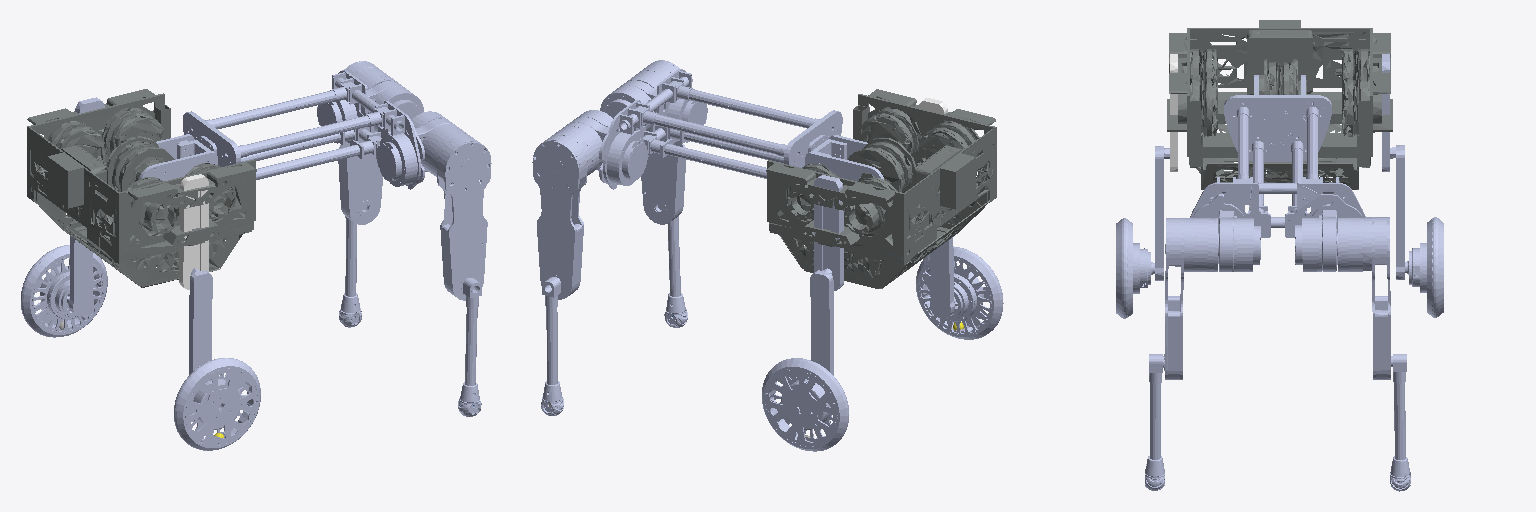
--- What the picture shows (computed from the rendered views, not written in the file) ---
3 views of the same robot in one strip: view 1: azimuth 30°, elevation 25°; view 2: azimuth 150°, elevation 25°; view 3: azimuth 270°, elevation 25° (orthographic).
Model Wheel_legged_sim with 21 links and 20 joints (8 revolute, 2 prismatic, 10 fixed), rooted at dummy_link, posed every joint at zero.
Visible links, largest first — view 1: base_link, waist_Link, Rhip_Link, Rwheel_Link, Lwheel_Link, Lhip_Link, RB_knee_Link, RB_hip_Link, Rknee_Link, LB_knee_Link, Rabad_Link, Labad_Link (+1 smaller); view 2: base_link, waist_Link, Lhip_Link, Lwheel_Link, Rwheel_Link, Rhip_Link, LB_knee_Link, LB_hip_Link, Lknee_Link, RB_knee_Link, Labad_Link, Rabad_Link (+1 smaller); view 3: base_link, waist_Link, Rabad_Link, Labad_Link, Rhip_Link, Lhip_Link, Rwheel_Link, Lwheel_Link, Lknee_Link, Rknee_Link, LB_knee_Link, RB_knee_Link (+2 smaller).
Link boxes in pixels (x1,y1,x2,y2): base_link: (27, 89, 256, 287); waist_Link: (139, 70, 420, 186); Rhip_Link: (432, 133, 491, 300); Rwheel_Link: (174, 358, 260, 450); Lwheel_Link: (21, 245, 107, 337); Lhip_Link: (338, 61, 383, 224); RB_knee_Link: (189, 268, 212, 374); RB_hip_Link: (179, 174, 208, 289); Rknee_Link: (458, 278, 481, 416); LB_knee_Link: (69, 236, 93, 315); Rabad_Link: (408, 111, 466, 189); Labad_Link: (350, 71, 423, 145); base_link: (766, 89, 996, 288); waist_Link: (603, 69, 883, 185); Lhip_Link: (532, 131, 591, 299); Lwheel_Link: (762, 358, 848, 451); Rwheel_Link: (916, 246, 1003, 339); Rhip_Link: (640, 60, 685, 224); LB_knee_Link: (810, 268, 833, 375); LB_hip_Link: (814, 175, 843, 290); Lknee_Link: (541, 277, 563, 415); RB_knee_Link: (930, 237, 954, 318); Labad_Link: (556, 110, 616, 189); Rabad_Link: (600, 71, 674, 144); base_link: (1167, 20, 1392, 189); waist_Link: (1190, 75, 1365, 237); Rabad_Link: (1193, 194, 1260, 271); Labad_Link: (1295, 195, 1362, 271); Rhip_Link: (1164, 218, 1193, 379); Lhip_Link: (1362, 217, 1390, 379); Rwheel_Link: (1116, 218, 1154, 318); Lwheel_Link: (1405, 217, 1443, 317); Lknee_Link: (1390, 354, 1410, 491); Rknee_Link: (1145, 354, 1164, 490); LB_knee_Link: (1390, 145, 1404, 279); RB_knee_Link: (1155, 146, 1169, 280).
Size in the robot's own frame: 0.7829 by 0.581 by 0.5883 metres.
14 mesh visuals loaded from 14 distinct referenced files (14 binary STL).

robot.urdf — Wheel_legged_sim:
<?xml version="1.0" encoding="utf-8"?>
<!-- This URDF was automatically created by SolidWorks to URDF Exporter! Originally created by Stephen Brawner ([email redacted]) 
     Commit Version: 1.6.0-4-g7f85cfe  Build Version: 1.6.7995.38578
     For more information, please see http://wiki.ros.org/sw_urdf_exporter -->
<robot name="Wheel_legged_sim">
  <gazebo>
    <plugin filename="libwheel_legged_hw_sim.so" name="gazebo_ros_control">
      <robotNamespace>/</robotNamespace>
      <robotParam>wheel_legged_description</robotParam>
      <robotSimType>ocs2/wheel_legged/LeggedHWSim</robotSimType>
    </plugin>
  </gazebo>
  <gazebo>
    <plugin filename="libgazebo_ros_p3d.so" name="p3d_base_controller">
      <alwaysOn>true</alwaysOn>
      <updateRate>1000.0</updateRate>
      <bodyName>base_link</bodyName>
      <topicName>ground_truth/state</topicName>
      <gaussianNoise>0</gaussianNoise>
      <frameName>world</frameName>
      <xyzOffsets>0 0 0</xyzOffsets>
      <rpyOffsets>0 0 0</rpyOffsets>
    </plugin>
  </gazebo>
  <link name="dummy_link">
    </link>
  <joint name="dummy_to_base_link" type="fixed">
    <parent link="dummy_link"/>
    <child link="base_link"/>
    <origin rpy="0 0 0" xyz="0 0 0"/>
  </joint>
  <link
    name="base_link">
    <visual>
      <origin
        xyz="0 0 0"
        rpy="0 0 0" />
      <geometry>
        <mesh
          filename="package://wheel_legged_description/meshes_controller/base_link.STL" />
      </geometry>
      <material
        name="">
        <color
          rgba="0.52941 0.54902 0.54902 1" />
      </material>
    </visual>
    <collision>
      <origin
        xyz="0 0 0"
        rpy="0 0 0" />
      <geometry>
        <box size="0.28 0.33 0.213" />
      </geometry>
    </collision>
  </link>
  <joint name="base_to_base_inertia" type="fixed">
        <parent link="base_link"/>
        <child link="base_inertia"/>
        <origin rpy="0 0 0" xyz="0 0 0"/>
  </joint>
  <link name="base_inertia">
      <inertial>
          <origin
            xyz="-0.034923 0.0027299 0.021738"
            rpy="0 0 0" />
          <mass
            value="16.8740" />
          <inertia
            ixx="0.29866736"
            ixy="0.00356184"
            ixz="-0.02224445"
            iyy="0.48858061"
            iyz="0.00137258"
            izz="0.65670964" />
      </inertial>
  </link>
    <!-- Imu is fixed to the base link -->
  <joint name="base_imu_joint" type="fixed">
    <origin rpy="0. 0. 0." xyz="0. 0. 0."/>
    <parent link="base_link"/>
    <child link="base_imu"/>
  </joint>
  <!-- Imu link -->
  <link name="base_imu">
    <inertial>
      <mass value="0.01"/>
      <origin rpy="0 0 0" xyz="0 0 0"/>
      <inertia ixx="0.000001" ixy="0" ixz="0" iyy="0.000001" iyz="0" izz="0.000001"/>
    </inertial>
    <visual>
      <origin rpy="0 0 0" xyz="0 0 0"/>
      <geometry>
        <box size="0.015 0.015 0.004"/>
      </geometry>
    </visual>
    <material name="orange">
      <color rgba="255 108 10 255"/>
    </material>
  </link>
  <gazebo reference="base_imu">
    <material>Gazebo/Orange</material>
  </gazebo>
  <gazebo reference="base_imu_joint">
    <disableFixedJointLumping>true</disableFixedJointLumping>
  </gazebo>
  <link
    name="waist_Link">
    <inertial>
      <origin
        xyz="0.31834 -0.0058844 -0.014821"
        rpy="0 0 0" />
      <mass
        value="0.000001" />
      <inertia
        ixx="0.000001"
        ixy="0.000001"
        ixz="0.000001"
        iyy="0.000001"
        iyz="0.000001"
        izz="0.000001" />
    </inertial>
    <visual>
      <origin
        xyz="0 0 0"
        rpy="0 0 0" />
      <geometry>
        <mesh
          filename="package://wheel_legged_description/meshes_controller/waist_Link.STL" />
      </geometry>
      <material
        name="">
        <color
          rgba="0.79216 0.81961 0.93333 1" />
      </material>
    </visual>
    <!-- <collision>
      <origin
        xyz="0.28 0 0"
        rpy="0 0 0" />
      <geometry>
        <box size="0.56 0.24 0.1" />
      </geometry>
    </collision> -->
  </link>
  <joint
    name="Joint_waist"
    type="fixed">
    <origin
      xyz="0.00010702 0.0053589 0.070915"
      rpy="0 0 0" />
    <parent
      link="base_link" />
    <child
      link="waist_Link" />
  </joint>
  <link
    name="Labad_Link">
    <inertial>
      <origin
        xyz="-0.0059569 -0.010794 -0.00017197"
        rpy="0 0 0" />
      <mass
        value="1.27" />
      <inertia
        ixx="0.00270"
        ixy="0.00002"
        ixz="0.00000"
        iyy="0.00162"
        iyz="-0.00001"
        izz="0.00284" />
    </inertial>
    <visual>
      <origin
        xyz="0 0 0"
        rpy="0 0 0" />
      <geometry>
        <mesh
          filename="package://wheel_legged_description/meshes_controller/Labad_Link.STL" />
      </geometry>
      <material
        name="">
        <color
          rgba="0.79216 0.81961 0.93333 1" />
      </material>
    </visual>
    <collision>
      <origin
        xyz="0 0 0"
        rpy="1.57 0 0" />
      <geometry>
        <cylinder length="0.13" radius="0.048" />
      </geometry>
    </collision>
  </link>
  <joint
    name="Joint_Labad"
    type="revolute">
    <origin
      xyz="0.56007 0.10043 -0.037739"
      rpy="0 0 0" />
    <parent
      link="waist_Link" />
    <child
      link="Labad_Link" />
    <axis
      xyz="1 0 0" />
    <limit
      lower="-0.424"
      upper="1.04"
      effort="24.206"
      velocity="100" />
  </joint>
  <link
    name="Lhip_Link">
    <inertial>
      <origin
        xyz="-0.00072323 -0.0046042 -0.086506"
        rpy="0 0 0" />
      <mass
        value="1.02" />
      <inertia
        ixx="0.00953"
        ixy="0.00000"
        ixz="-0.00005"
        iyy="0.00994"
        iyz="0.00039"
        izz="0.00079" />
    </inertial>
    <visual>
      <origin
        xyz="0 0 0"
        rpy="0 0 0" />
      <geometry>
        <mesh
          filename="package://wheel_legged_description/meshes_controller/Lhip_Link.STL" />
      </geometry>
      <material
        name="">
        <color
          rgba="0.79216 0.81961 0.93333 1" />
      </material>
    </visual>
    <collision>
      <origin
        xyz="0 0 -0.115"
        rpy="0 0 0" />
      <geometry>
        <cylinder length="0.23" radius="0.05" />
      </geometry>
    </collision>
  </link>
  <joint
    name="Joint_Lhip"
    type="revolute">
    <origin
      xyz="-0.00017444 0.077692 0.00019391"
      rpy="0 0 0" />
    <parent
      link="Labad_Link" />
    <child
      link="Lhip_Link" />
    <axis
      xyz="0 1 0" />
    <limit
      lower="-0.503"
      upper="1.41"
      effort="22.76"
      velocity="100" />
  </joint>
  <link
    name="Lknee_Link">
    <inertial>
      <origin
        xyz="-0.0017065 -0.00067242 -0.14609"
        rpy="0 0 0" />
      <mass
        value="0.18" />
      <inertia
        ixx="0.00159"
        ixy="0.00000"
        ixz="-0.00002"
        iyy="0.00159"
        iyz="0.00005"
        izz="0.00003" />
    </inertial>
    <visual>
      <origin
        xyz="0 0 0"
        rpy="0 0 0" />
      <geometry>
        <mesh
          filename="package://wheel_legged_description/meshes_controller/Lknee_Link.STL" />
      </geometry>
      <material
        name="">
        <color
          rgba="0.79216 0.81961 0.93333 1" />
      </material>
    </visual>
    <collision>
      <origin
        xyz="0 0 -0.125"
        rpy="0 0 0" />
      <geometry>
        <cylinder length="0.25" radius="0.04" />
      </geometry>
    </collision>
  </link>
  <joint
    name="Joint_Lknee"
    type="revolute">
    <origin
      xyz="-0.0016586 0.031407 -0.23005"
      rpy="0 0 0" />
    <parent
      link="Lhip_Link" />
    <child
      link="Lknee_Link" />
    <axis
      xyz="0 1 0" />
    <limit
      lower="-3.14"
      upper="0"
      effort="28"
      velocity="100" />
  </joint>
  
  <joint dont_collapse="true" name="LF_foot_fixed" type="fixed">
    <origin rpy="0 0 0" xyz="-0.0025 0.002 -0.232"/>
    <parent link="Lknee_Link"/>
    <child link="LF_FOOT"/>
  </joint>
  <link name="LF_FOOT">
    <visual>
      <origin rpy="0 0 0" xyz="0 0 0"/>
      <geometry>
        <sphere radius="0.01"/>
      </geometry>
      <material name=""/>
    </visual>
    <collision>
      <origin rpy="0 0 0" xyz="0 0 0"/>
      <geometry>
        <sphere radius="0.01"/>
      </geometry>
    </collision>
    <inertial>
      <mass value="0.06"/>
      <inertia ixx="9.600000000000001e-06" ixy="0.0" ixz="0.0" iyy="9.600000000000001e-06" iyz="0.0" izz="9.600000000000001e-06"/>
    </inertial>
  </link>
  <gazebo reference="LF_foot_fixed">
    <disableFixedJointLumping>true</disableFixedJointLumping>
  </gazebo>
  <gazebo reference="Labad_Link">
    <mu1>0.2</mu1>
    <mu2>0.2</mu2>
    <material>Gazebo/DarkGrey</material>
  </gazebo>
  <gazebo reference="Lhip_Link">
    <mu1>0.2</mu1>
    <mu2>0.2</mu2>
    <self_collide>0</self_collide>
    <material>Gazebo/DarkGrey</material>
    <kp value="1000000.0"/>
    <kd value="100.0"/>
  </gazebo>
  <gazebo reference="Lknee_Link">
    <mu1>0.6</mu1>
    <mu2>0.6</mu2>
    <self_collide>1</self_collide>
  </gazebo>
  <gazebo reference="LF_FOOT">
    <mu1>0.6</mu1>
    <mu2>0.6</mu2>
    <self_collide>1</self_collide>
    <material>Gazebo/DarkGrey</material>
    <kp value="1000000.0"/>
    <kd value="100.0"/>
  </gazebo>
  
  <transmission name="LF_HAA_tran">
    <type>transmission_interface/SimpleTransmission</type>
    <joint name="Joint_Labad">
      <hardwareInterface>hardware_interface/EffortJointInterface</hardwareInterface>
    </joint>
    <actuator name="LF_HAA_motor">
      <hardwareInterface>hardware_interface/EffortJointInterface</hardwareInterface>
      <mechanicalReduction>1</mechanicalReduction>
    </actuator>
  </transmission>
  <transmission name="LF_HFE_tran">
    <type>transmission_interface/SimpleTransmission</type>
    <joint name="Joint_Lhip">
      <hardwareInterface>hardware_interface/EffortJointInterface</hardwareInterface>
    </joint>
    <actuator name="LF_HFE_motor">
      <hardwareInterface>hardware_interface/EffortJointInterface</hardwareInterface>
      <mechanicalReduction>1</mechanicalReduction>
    </actuator>
  </transmission>
  <transmission name="LF_KFE_tran">
    <type>transmission_interface/SimpleTransmission</type>
    <joint name="Joint_Lknee">
      <hardwareInterface>hardware_interface/EffortJointInterface</hardwareInterface>
    </joint>
    <actuator name="LF_KFE_motor">
      <hardwareInterface>hardware_interface/EffortJointInterface</hardwareInterface>
      <mechanicalReduction>1</mechanicalReduction>
    </actuator>
  </transmission>
  
  <link
    name="Rabad_Link">
    <inertial>
      <origin
        xyz="-0.0060593 0.010773 0.00059437"
        rpy="0 0 0" />
      <mass
        value="1.27" />
      <inertia
        ixx="0.00270"
        ixy="-0.00002"
        ixz="0.00000"
        iyy="0.00162"
        iyz="0.00001"
        izz="0.00284" />
    </inertial>
    <visual>
      <origin
        xyz="0 0 0"
        rpy="0 0 0" />
      <geometry>
        <mesh
          filename="package://wheel_legged_description/meshes_controller/Rabad_Link.STL" />
      </geometry>
      <material
        name="">
        <color
          rgba="0.79216 0.81961 0.93333 1" />
      </material>
    </visual>
    <collision>
      <origin
        xyz="0 0 0"
        rpy="1.57 0 0" />
      <geometry>
        <cylinder length="0.13" radius="0.048" />
      </geometry>
    </collision>
  </link>
  <joint
    name="Joint_Rabad"
    type="revolute">
    <origin
      xyz="0.55997 -0.11311 -0.039239"
      rpy="0 0 0" />
    <parent
      link="waist_Link" />
    <child
      link="Rabad_Link" />
    <axis
      xyz="1 0 0" />
    <limit
      lower="-1.04"
      upper="0.424"
      effort="24.206"
      velocity="100" />
  </joint>
  <link
    name="Rhip_Link">
    <inertial>
      <origin
        xyz="-0.00032807 0.0034224 -0.086549"
        rpy="0 0 0" />
      <mass
        value="1.02" />
      <inertia
        ixx="0.00953"
        ixy="0.00000"
        ixz="-0.00005"
        iyy="0.00994"
        iyz="-0.00041"
        izz="0.00079" />
    </inertial>
    <visual>
      <origin
        xyz="0 0 0"
        rpy="0 0 0" />
      <geometry>
        <mesh
          filename="package://wheel_legged_description/meshes_controller/Rhip_Link.STL" />
      </geometry>
      <material
        name="">
        <color
          rgba="0.79216 0.81961 0.93333 1" />
      </material>
    </visual>
    <collision>
      <origin
        xyz="0 0 -0.115"
        rpy="0 0 0" />
      <geometry>
        <cylinder length="0.23" radius="0.05" />
      </geometry>
    </collision>
  </link>
  <joint
    name="Joint_Rhip"
    type="revolute">
    <origin
      xyz="-7.1411E-05 -0.076714 0.00089968"
      rpy="0 0 0" />
    <parent
      link="Rabad_Link" />
    <child
      link="Rhip_Link" />
    <axis
      xyz="0 1 0" />
    <limit
      lower="-0.503"
      upper="1.41"
      effort="22.76"
      velocity="100" />
  </joint>
  <link
    name="Rknee_Link">
    <inertial>
      <origin
        xyz="-0.0045928 -0.00013516 -0.14629"
        rpy="0 0 0" />
      <mass
        value="0.18" />
      <inertia
        ixx="0.00159"
        ixy="0.00000"
        ixz="-0.00005"
        iyy="0.00159"
        iyz="-0.00005"
        izz="0.00003" />
    </inertial>
    <visual>
      <origin
        xyz="0 0 0"
        rpy="0 0 0" />
      <geometry>
        <mesh
          filename="package://wheel_legged_description/meshes_controller/Rknee_Link.STL" />
      </geometry>
      <material
        name="">
        <color
          rgba="0.79216 0.81961 0.93333 1" />
      </material>
    </visual>
    <collision>
      <origin
        xyz="0 0 -0.125"
        rpy="0 0 0" />
      <geometry>
        <cylinder length="0.25" radius="0.04" />
      </geometry>
    </collision>
  </link>
  <joint
    name="Joint_Rknee"
    type="revolute">
    <origin
      xyz="-0.0011405 -0.032389 -0.22976"
      rpy="0 0 0" />
    <parent
      link="Rhip_Link" />
    <child
      link="Rknee_Link" />
    <axis
      xyz="0 1 0" />
    <limit
      lower="-3.14"
      upper="0"
      effort="28"
      velocity="100" />
  </joint>
  <joint dont_collapse="true" name="RF_foot_fixed" type="fixed">
    <origin rpy="0 0 0" xyz="-0.007 -0.002 -0.232"/>
    <parent link="Rknee_Link"/>
    <child link="RF_FOOT"/>
  </joint>
  <link name="RF_FOOT">
    <visual>
      <origin rpy="0 0 0" xyz="0 0 0"/>
      <geometry>
        <sphere radius="0.01"/>
      </geometry>
      <material name=""/>
    </visual>
    <collision>
      <origin rpy="0 0 0" xyz="0 0 0"/>
      <geometry>
        <sphere radius="0.01"/>
      </geometry>
    </collision>
    <inertial>
      <mass value="0.06"/>
      <inertia ixx="9.600000000000001e-06" ixy="0.0" ixz="0.0" iyy="9.600000000000001e-06" iyz="0.0" izz="9.600000000000001e-06"/>
    </inertial>
  </link>
  <gazebo reference="RF_foot_fixed">
    <disableFixedJointLumping>true</disableFixedJointLumping>
  </gazebo>
  <gazebo reference="Rabad_Link">
    <mu1>0.2</mu1>
    <mu2>0.2</mu2>
    <material>Gazebo/DarkGrey</material>
  </gazebo>
  <gazebo reference="Rhip_Link">
    <mu1>0.2</mu1>
    <mu2>0.2</mu2>
    <self_collide>0</self_collide>
    <material>Gazebo/DarkGrey</material>
    <kp value="1000000.0"/>
    <kd value="100.0"/>
  </gazebo>
  <gazebo reference="Rknee_Link">
    <mu1>0.6</mu1>
    <mu2>0.6</mu2>
    <self_collide>1</self_collide>
  </gazebo>
  <gazebo reference="RF_FOOT">
    <mu1>0.6</mu1>
    <mu2>0.6</mu2>
    <self_collide>1</self_collide>
    <material>Gazebo/DarkGrey</material>
    <kp value="1000000.0"/>
    <kd value="100.0"/>
  </gazebo>
  <transmission name="RF_HAA_tran">
    <type>transmission_interface/SimpleTransmission</type>
    <joint name="Joint_Rabad">
      <hardwareInterface>hardware_interface/EffortJointInterface</hardwareInterface>
    </joint>
    <actuator name="RF_HAA_motor">
      <hardwareInterface>hardware_interface/EffortJointInterface</hardwareInterface>
      <mechanicalReduction>1</mechanicalReduction>
    </actuator>
  </transmission>
  <transmission name="RF_HFE_tran">
    <type>transmission_interface/SimpleTransmission</type>
    <joint name="Joint_Rhip">
      <hardwareInterface>hardware_interface/EffortJointInterface</hardwareInterface>
    </joint>
    <actuator name="RF_HFE_motor">
      <hardwareInterface>hardware_interface/EffortJointInterface</hardwareInterface>
      <mechanicalReduction>1</mechanicalReduction>
    </actuator>
  </transmission>
  <transmission name="RF_KFE_tran">
    <type>transmission_interface/SimpleTransmission</type>
    <joint name="Joint_Rknee">
      <hardwareInterface>hardware_interface/EffortJointInterface</hardwareInterface>
    </joint>
    <actuator name="RF_KFE_motor">
      <hardwareInterface>hardware_interface/EffortJointInterface</hardwareInterface>
      <mechanicalReduction>1</mechanicalReduction>
    </actuator>
  </transmission>
  
  <link
    name="LB_hip_Link">
    <inertial>
      <origin
        xyz="-0.00031244 0.015158 -0.038984"
        rpy="0 0 0" />
      <mass
        value="0.34817" />
      <inertia
        ixx="0.00135"
        ixy="0.00000"
        ixz="-0.00001"
        iyy="0.00143"
        iyz="0.00000"
        izz="0.00009" />
    </inertial>
    <visual>
      <origin
        xyz="0 0 0"
        rpy="0 0 0" />
      <geometry>
        <mesh filename="package://wheel_legged_description/meshes_controller/LB_hip_Link.STL" />
      </geometry>
      <material
        name="">
        <color
          rgba="0.79216 0.81961 0.93333 1" />
      </material>
    </visual>
    <collision>
      <origin
        xyz="0 0.02 -0.04"
        rpy="0 0 0" />
      <geometry>
        <cylinder length="0.20" radius="0.02" />
      </geometry>
    </collision>
  </link>
  <joint
    name="Joint_LBhip"
    type="revolute">
    <origin
      xyz="0.00011754 0.17466 0.068919"
      rpy="0 0 0" />
    <parent
      link="base_link" />
    <child
      link="LB_hip_Link" />
    <axis
      xyz="0 1 0" />
    <limit
      lower="-0.529"
      upper="0.529"
      effort="69.923"
      velocity="100" />
  </joint>
  <link
    name="LB_knee_Link">
    <inertial>
      <origin
        xyz="0.00354864922615338 -0.000476762690283003 0.11149718524343"
        rpy="0 0 0" />
      <mass
        value="0.4417" />
      <inertia
        ixx="0.00244"
        ixy="0.00000"
        ixz="-0.00002"
        iyy="0.00249"
        iyz="0.00002"
        izz="0.00007" />
    </inertial>
    <visual>
      <origin
        xyz="0 0 0"
        rpy="0 0 0" />
      <geometry>
        <mesh
          filename="package://wheel_legged_description/meshes_controller/LB_knee_Link.STL" />
      </geometry>
      <material
        name="">
        <color
          rgba="0.79216 0.81961 0.93333 1" />
      </material>
    </visual>
    <collision>
      <origin
        xyz="0 0 0.11"
        rpy="0 0 0" />
      <geometry>
        <cylinder length="0.22" radius="0.02" />
      </geometry>
    </collision>
  </link>
  <joint
    name="Joint_LBknee"
    type="prismatic">
    <origin
      xyz="-0.0053715 0.041755 -0.34324"
      rpy="0 0 0" />
    <parent
      link="LB_hip_Link" />
    <child
      link="LB_knee_Link" />
    <axis
      xyz="0 0 -1" />
    <limit
      lower="-0.16"
      upper="0"
      effort="77.567"
      velocity="100" />
  </joint>
  <joint dont_collapse="true" name="LH_foot_fixed" type="fixed">
    <origin rpy="0 0 0" xyz="0 0.063 -0.07"/>
    <parent link="LB_knee_Link"/>
    <child link="LH_FOOT"/>
  </joint>
  <link name="LH_FOOT">
    <visual>
      <origin rpy="0 0 0" xyz="0 0 0"/>
      <geometry>
        <sphere radius="0.01"/>
      </geometry>
      <material name=""/>
    </visual>
    <collision>
      <origin rpy="0 0 0" xyz="0 0 0"/>
      <geometry>
        <sphere radius="0.01"/>
      </geometry>
    </collision>
    <inertial>
      <mass value="0.06"/>
      <inertia ixx="9.600000000000001e-06" ixy="0.0" ixz="0.0" iyy="9.600000000000001e-06" iyz="0.0" izz="9.600000000000001e-06"/>
    </inertial>
  </link>
  <link
    name="Lwheel_Link">
    <inertial>
      <origin
        xyz="0.00010458 -0.011045 -3.7866E-05"
        rpy="0 0 0" />
      <mass
        value="0.825401" />
      <inertia
        ixx="0.00145"
        ixy="0.00000"
        ixz="0.00000"
        iyy="0.00186"
        iyz="0.00000"
        izz="0.00145" />
    </inertial>
    <visual>
      <origin
        xyz="0 0 0"
        rpy="0 0 0" />
      <geometry>
        <mesh
          filename="package://wheel_legged_description/meshes_controller/Lwheel_Link.STL" />
      </geometry>
      <material
        name="">
        <color
          rgba="0.79216 0.81961 0.93333 1" />
      </material>
    </visual>
    <collision>
      <origin
        xyz="0 0 0"
        rpy="1.57 0 0" />
      <geometry>
        <cylinder length="0.04" radius="0.09" />
      </geometry>
    </collision>
  </link>
  <joint
    name="Joint_LWheel"
    type="fixed">
    <origin
      xyz="0.0026399 0.0617 -0.0001032"
      rpy="0 0 0" />
    <parent
      link="LB_knee_Link" />
    <child
      link="Lwheel_Link" />
    <!-- <axis
      xyz="0 1 0" />
    <limit
      lower="0"
      upper="3.14"
      effort="77.567"
      velocity="100" /> -->
  </joint>
  <gazebo reference="LH_foot_fixed">
    <disableFixedJointLumping>true</disableFixedJointLumping>
  </gazebo>
  <gazebo reference="LB_hip_Link">
    <mu1>0.2</mu1>
    <mu2>0.2</mu2>
    <material>Gazebo/DarkGrey</material>
  </gazebo>
  <gazebo reference="LB_knee_Link">
    <mu1>0.2</mu1>
    <mu2>0.2</mu2>
    <self_collide>0</self_collide>
    <material>Gazebo/DarkGrey</material>
    <kp value="1000000.0"/>
    <kd value="100.0"/>
  </gazebo>
  <gazebo reference="Lwheel_Link">
    <mu1>0.6</mu1>
    <mu2>0.6</mu2>
    <self_collide>1</self_collide>
  </gazebo>
  <gazebo reference="LH_FOOT">
    <mu1>0.6</mu1>
    <mu2>0.6</mu2>
    <self_collide>1</self_collide>
    <material>Gazebo/DarkGrey</material>
    <kp value="1000000.0"/>
    <kd value="100.0"/>
  </gazebo>
  <transmission name="LH_HAA_tran">
    <type>transmission_interface/SimpleTransmission</type>
    <joint name="Joint_LBhip">
      <hardwareInterface>hardware_interface/EffortJointInterface</hardwareInterface>
    </joint>
    <actuator name="LH_HAA_motor">
      <hardwareInterface>hardware_interface/EffortJointInterface</hardwareInterface>
      <mechanicalReduction>1</mechanicalReduction>
    </actuator>
  </transmission>
  <transmission name="LH_HFE_tran">
    <type>transmission_interface/SimpleTransmission</type>
    <joint name="Joint_LBknee">
      <hardwareInterface>hardware_interface/EffortJointInterface</hardwareInterface>
    </joint>
    <actuator name="LH_HFE_motor">
      <hardwareInterface>hardware_interface/EffortJointInterface</hardwareInterface>
      <mechanicalReduction>1</mechanicalReduction>
    </actuator>
  </transmission>
  <transmission name="LH_KFE_tran">
    <type>transmission_interface/SimpleTransmission</type>
    <joint name="Joint_LWheel">
      <hardwareInterface>hardware_interface/EffortJointInterface</hardwareInterface>
    </joint>
    <actuator name="LH_KFE_motor">
      <hardwareInterface>hardware_interface/EffortJointInterface</hardwareInterface>
      <mechanicalReduction>1</mechanicalReduction>
    </actuator>
  </transmission>
  
  <link
    name="RB_hip_Link">
    <inertial>
      <origin
        xyz="-0.000335186333982105 -0.0151577340782545 -0.0389841587933919"
        rpy="0 0 0" />
      <mass
        value="0.34817" />
      <inertia
        ixx="0.00135"
        ixy="0.00000"
        ixz="-0.00001"
        iyy="0.00143"
        iyz="0"
        izz="0.00009" />
    </inertial>
    <visual>
      <origin
        xyz="0 0 0"
        rpy="0 0 0" />
      <geometry>
        <mesh
          filename="package://wheel_legged_description/meshes_controller/RB_hip_Link.STL" />
      </geometry>
      <material
        name="">
        <color
          rgba="1 1 1 1" />
      </material>
    </visual>
    <collision>
      <origin
        xyz="0 -0.02 -0.04"
        rpy="0 0 0" />
      <geometry>
        <cylinder length="0.20" radius="0.02" />
      </geometry>
    </collision>
  </link>
  <joint
    name="Joint_RBhip"
    type="revolute">
    <origin
      xyz="0.00010384 -0.16944 0.06892"
      rpy="0 0 0" />
    <parent
      link="base_link" />
    <child
      link="RB_hip_Link" />
    <axis
      xyz="0 1 0" />
    <limit
      lower="-0.529"
      upper="0.529"
      effort="69.923"
      velocity="100" />
  </joint>
  <link
    name="RB_knee_Link">
    <inertial>
      <origin
        xyz="-0.00150501349453568 0.00047676180346401 0.109599170955343"
        rpy="0 0 0" />
      <mass
        value="0.4417" />
      <inertia
        ixx="0.00244"
        ixy="0.00000"
        ixz="-0.00002"
        iyy="0.00249"
        iyz="-0.00002"
        izz="0.00007" />
    </inertial>
    <visual>
      <origin
        xyz="0 0 0"
        rpy="0 0 0" />
      <geometry>
        <mesh
          filename="package://wheel_legged_description/meshes_controller/RB_knee_Link.STL" />
      </geometry>
      <material
        name="">
        <color
          rgba="0.79216 0.81961 0.93333 1" />
      </material>
    </visual>
    <collision>
      <origin
        xyz="0 0 0.11"
        rpy="0 0 0" />
      <geometry>
        <cylinder length="0.22" radius="0.02" />
      </geometry>
    </collision>
  </link>
  <joint
    name="Joint_RBknee"
    type="prismatic">
    <origin
      xyz="-0.00053861 -0.041755 -0.34324"
      rpy="0 0 0" />
    <parent
      link="RB_hip_Link" />
    <child
      link="RB_knee_Link" />
    <axis
      xyz="0 0 -1" />
    <limit
      lower="-0.16"
      upper="0"
      effort="77.567"
      velocity="100" />
  </joint>
  <joint dont_collapse="true" name="RH_foot_fixed" type="fixed">
    <origin rpy="0 0 0" xyz="0 -0.063 -0.07"/>
    <parent link="RB_knee_Link"/>
    <child link="RH_FOOT"/>
  </joint>
  <link name="RH_FOOT">
    <visual>
      <origin rpy="0 0 0" xyz="0 0 0"/>
      <geometry>
        <sphere radius="0.01"/>
      </geometry>
      <material name=""/>
    </visual>
    <collision>
      <origin rpy="0 0 0" xyz="0 0 0"/>
      <geometry>
        <sphere radius="0.01"/>
      </geometry>
    </collision>
    <inertial>
      <mass value="0.06"/>
      <inertia ixx="9.600000000000001e-06" ixy="0.0" ixz="0.0" iyy="9.600000000000001e-06" iyz="0.0" izz="9.600000000000001e-06"/>
    </inertial>
  </link>
  <link
    name="Rwheel_Link">
    <inertial>
      <origin
        xyz="8.32571755495799E-05 0.0110455159380529 0.09"
        rpy="0 0 0" />
      <mass
        value="0.825401" />
      <inertia
        ixx="0.00145"
        ixy="0"
        ixz="0"
        iyy="0.00186"
        iyz="0"
        izz="0.00145" />
    </inertial>
    <visual>
      <origin
        xyz="0 0 0"
        rpy="0 0 0" />
      <geometry>
        <mesh
          filename="package://wheel_legged_description/meshes_controller/Rwheel_Link.STL" />
      </geometry>
      <material
        name="">
        <color
          rgba="0.79216 0.81961 0.93333 1" />
      </material>
    </visual>
    <collision>
      <origin
        xyz="0 0 0"
        rpy="1.57 0 0" />
      <geometry>
        <cylinder length="0.04" radius="0.09" />
      </geometry>
    </collision>
  </link>
  <joint
    name="Joint_RWheel"
    type="fixed">
    <origin
      xyz="-0.0025095 -0.0617 -0.0021113"
      rpy="0 0 0" />
    <parent
      link="RB_knee_Link" />
    <child
      link="Rwheel_Link" />
    <!-- <axis
      xyz="0 1 0" />
    <limit
      lower="0"
      upper="3.14"
      effort="77.567"
      velocity="100" /> -->
  </joint>
  <gazebo reference="RH_foot_fixed">
    <disableFixedJointLumping>true</disableFixedJointLumping>
  </gazebo>
  <gazebo reference="RB_hip_Link">
    <mu1>0.2</mu1>
    <mu2>0.2</mu2>
    <material>Gazebo/DarkGrey</material>
  </gazebo>
  <gazebo reference="RB_knee_Link">
    <mu1>0.2</mu1>
    <mu2>0.2</mu2>
    <self_collide>0</self_collide>
    <material>Gazebo/DarkGrey</material>
    <kp value="1000000.0"/>
    <kd value="100.0"/>
  </gazebo>
  <gazebo reference="Rwheel_Link">
    <mu1>0.6</mu1>
    <mu2>0.6</mu2>
    <self_collide>1</self_collide>
  </gazebo>
  <gazebo reference="RH_FOOT">
    <mu1>0.6</mu1>
    <mu2>0.6</mu2>
    <self_collide>1</self_collide>
    <material>Gazebo/DarkGrey</material>
    <kp value="1000000.0"/>
    <kd value="100.0"/>
  </gazebo>
  <transmission name="RH_HAA_tran">
    <type>transmission_interface/SimpleTransmission</type>
    <joint name="Joint_RBhip">
      <hardwareInterface>hardware_interface/EffortJointInterface</hardwareInterface>
    </joint>
    <actuator name="RH_HAA_motor">
      <hardwareInterface>hardware_interface/EffortJointInterface</hardwareInterface>
      <mechanicalReduction>1</mechanicalReduction>
    </actuator>
  </transmission>
  <transmission name="RH_HFE_tran">
    <type>transmission_interface/SimpleTransmission</type>
    <joint name="Joint_RBknee">
      <hardwareInterface>hardware_interface/EffortJointInterface</hardwareInterface>
    </joint>
    <actuator name="RH_HFE_motor">
      <hardwareInterface>hardware_interface/EffortJointInterface</hardwareInterface>
      <mechanicalReduction>1</mechanicalReduction>
    </actuator>
  </transmission>
  <transmission name="RH_KFE_tran">
    <type>transmission_interface/SimpleTransmission</type>
    <joint name="Joint_RWheel">
      <hardwareInterface>hardware_interface/EffortJointInterface</hardwareInterface>
    </joint>
    <actuator name="RH_KFE_motor">
      <hardwareInterface>hardware_interface/EffortJointInterface</hardwareInterface>
      <mechanicalReduction>1</mechanicalReduction>
    </actuator>
  </transmission>
</robot>
